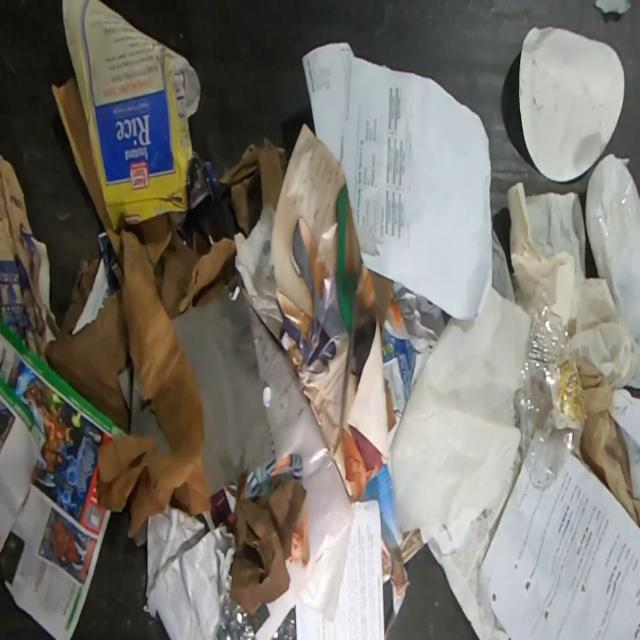cardboard: (61, 0, 201, 232), (51, 76, 123, 265), (218, 138, 288, 237)
rigid_plastic: (513, 284, 586, 490), (212, 594, 257, 640), (271, 605, 297, 639)
